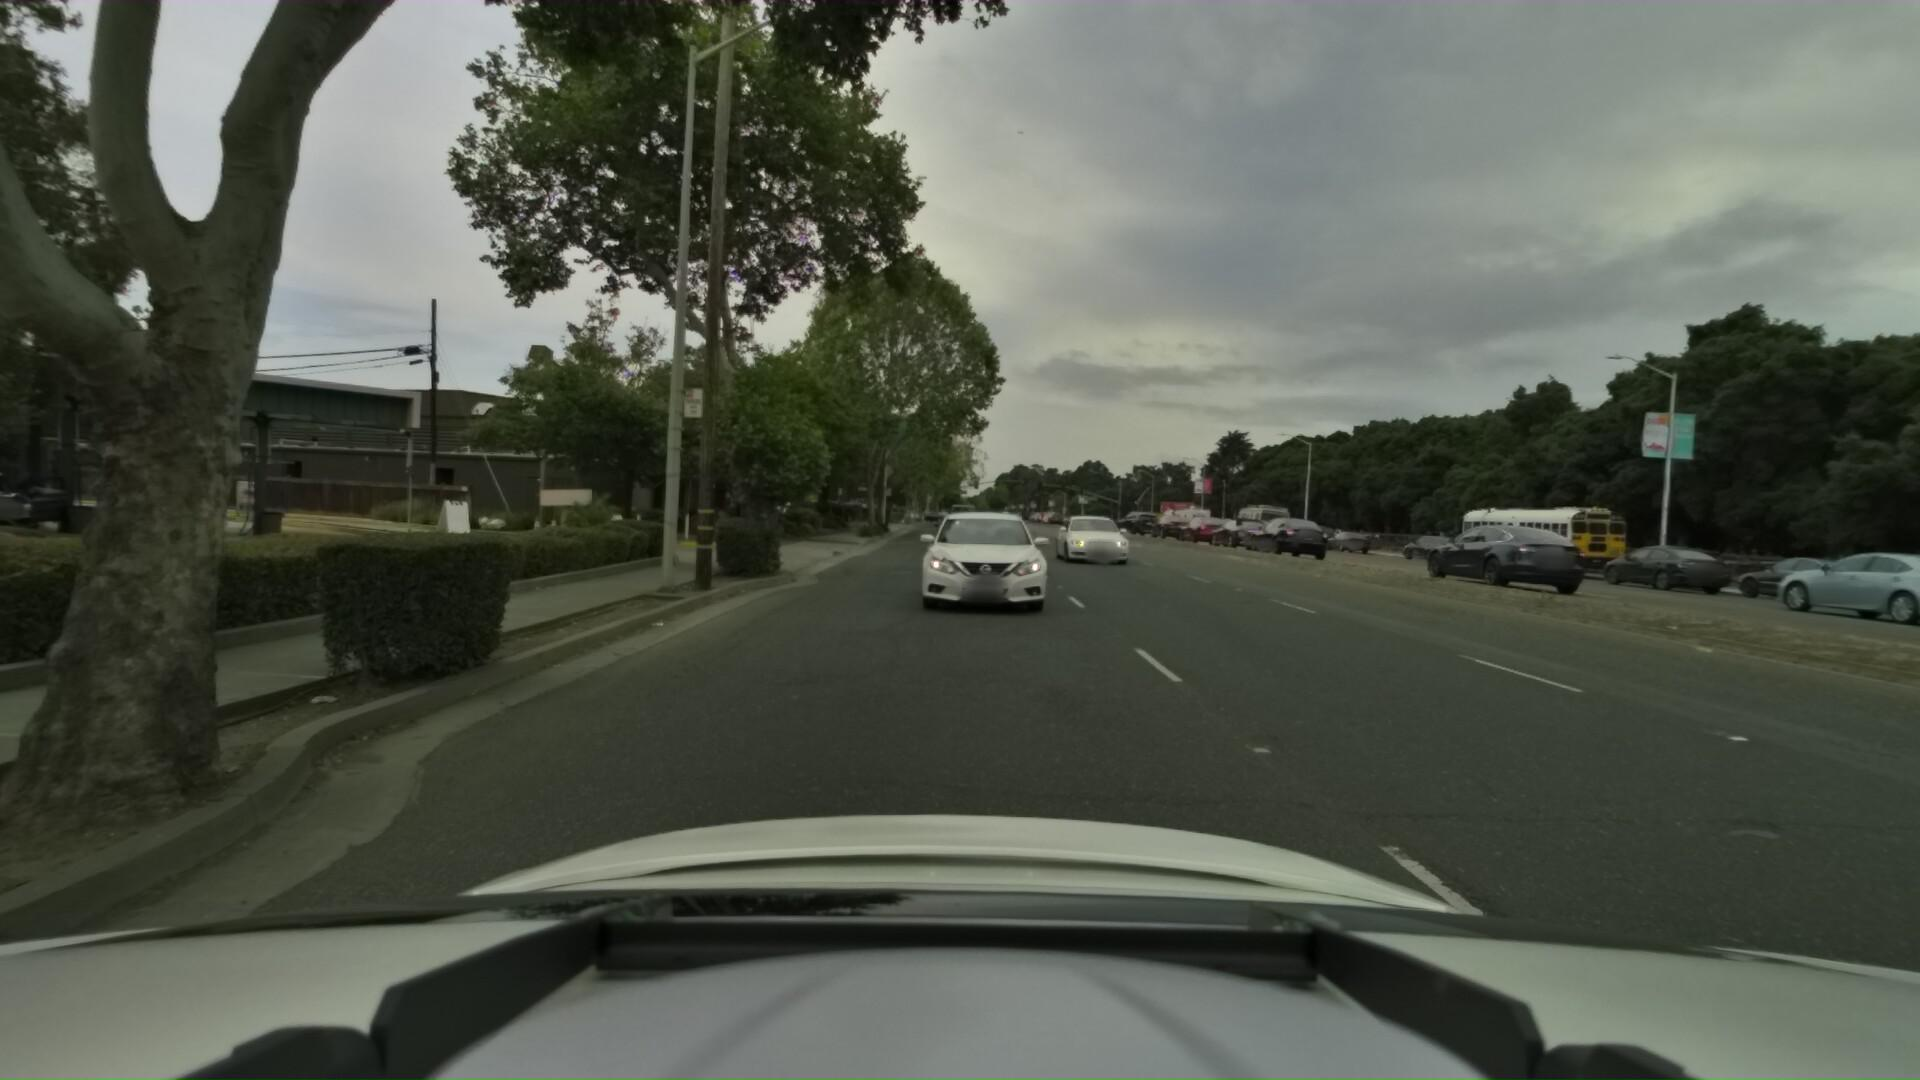bus: (1437, 495, 1625, 572)
car: (916, 496, 1056, 615), (1760, 533, 1920, 634), (1410, 512, 1590, 591), (1702, 541, 1884, 605), (1590, 531, 1735, 589), (1586, 529, 1722, 585), (0, 463, 76, 535), (1234, 506, 1324, 553), (1043, 501, 1121, 554), (1201, 504, 1271, 545), (1394, 522, 1462, 556), (1170, 504, 1228, 539), (1145, 502, 1193, 533), (1319, 520, 1367, 549), (1284, 514, 1333, 543), (1116, 500, 1160, 529), (940, 495, 976, 527), (0, 452, 15, 501)
